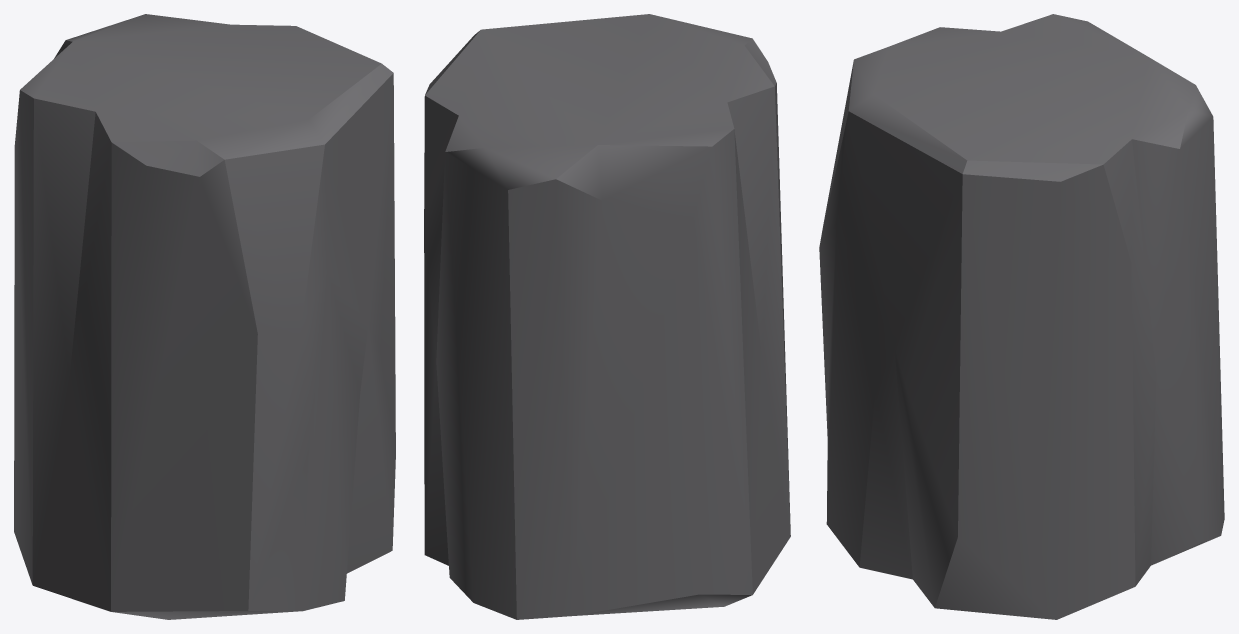
File: Stone_19.fbx
3 views of the same model, side by side, from view 1: azimuth 30°, elevation 25°; view 2: azimuth 150°, elevation 25°; view 3: azimuth 270°, elevation 25° (orthographic). The views are drawn at different scales.
Parts seen in each view (by area): view 1: Stone_19; view 2: Stone_19; view 3: Stone_19.
Part boxes in pixels (x1,y1,x2,y2): Stone_19: (14,14,395,619); Stone_19: (424,14,790,619); Stone_19: (819,14,1224,619).
Size of the model in its own units: 182 by 265 by 208.
